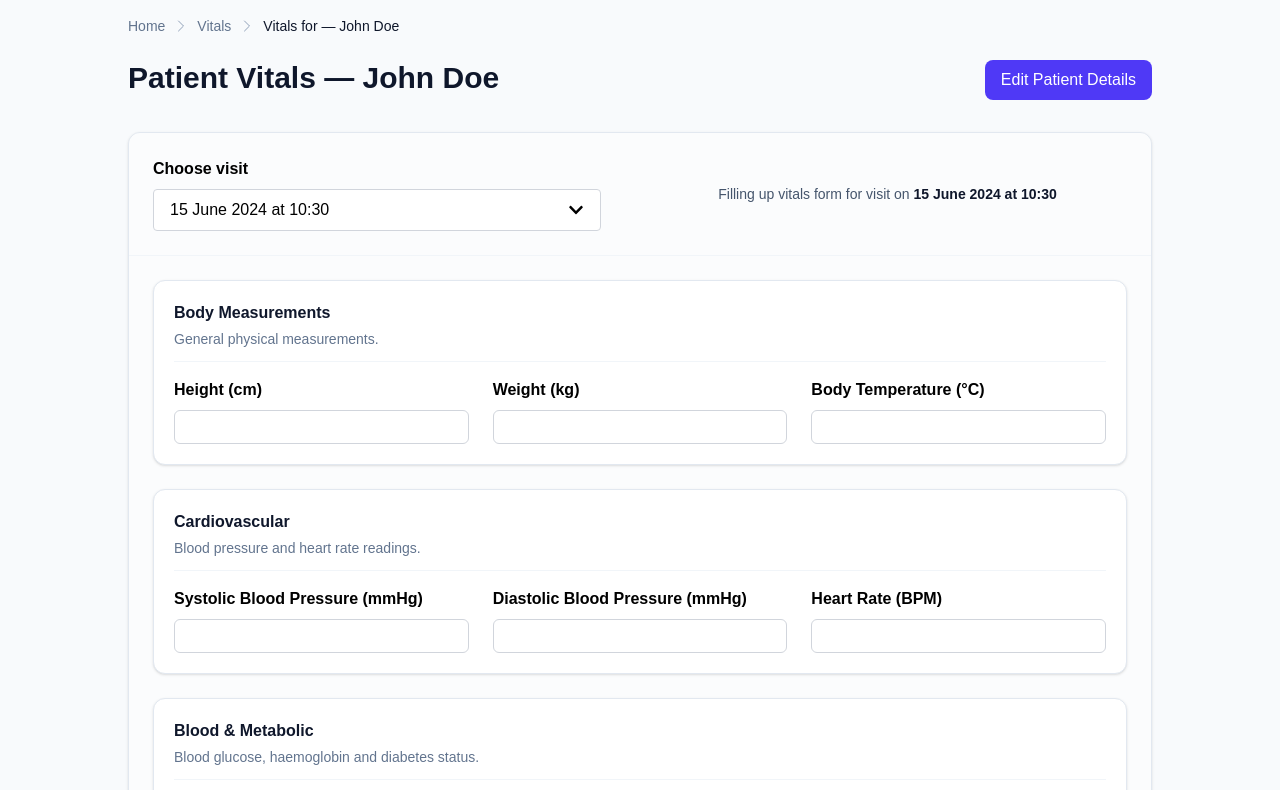
VitalsForm › shows Pre-HTN warning symbol
Type "130" into the number field labelled "Systolic Blood Pressure (mmHg)". click: (321,636)
box: [174, 619, 469, 653]
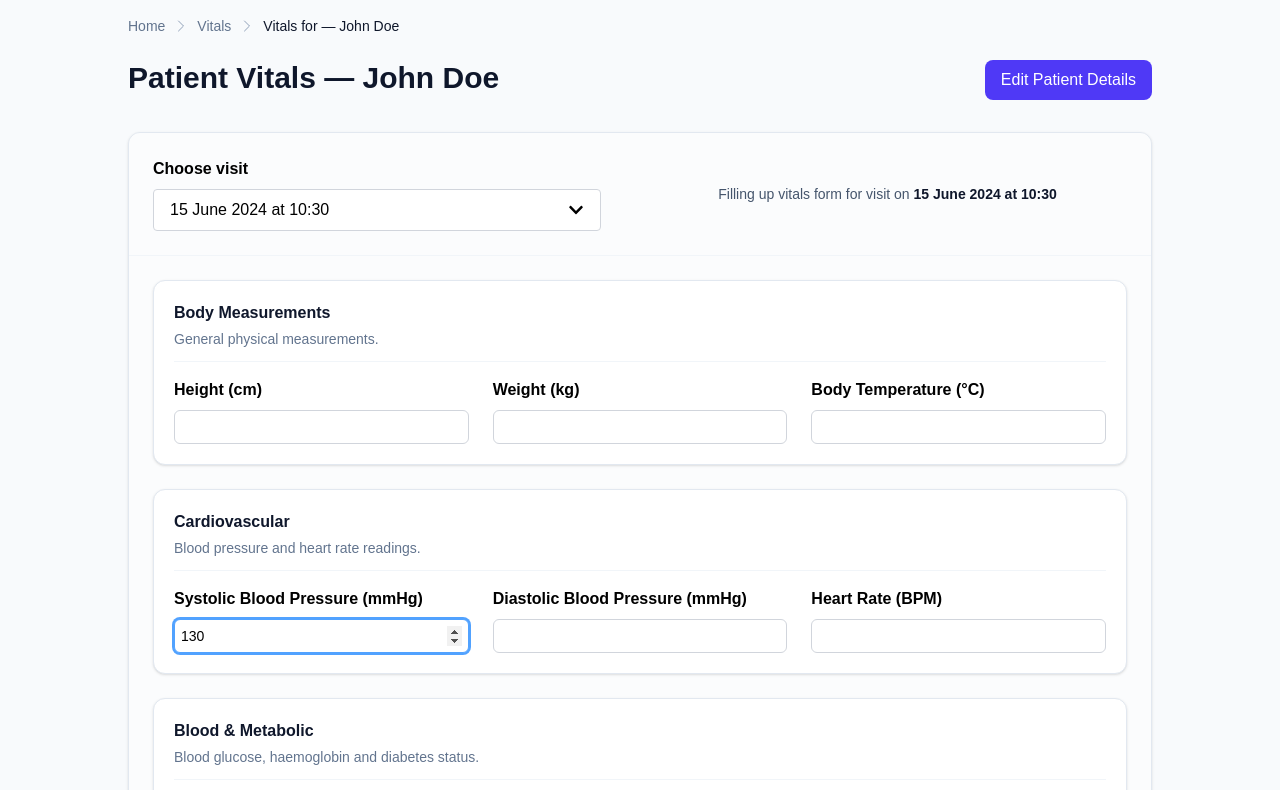
Type "80" into the number field labelled "Diastolic Blood Pressure (mmHg)". click: (640,636)
box: [493, 619, 787, 653]
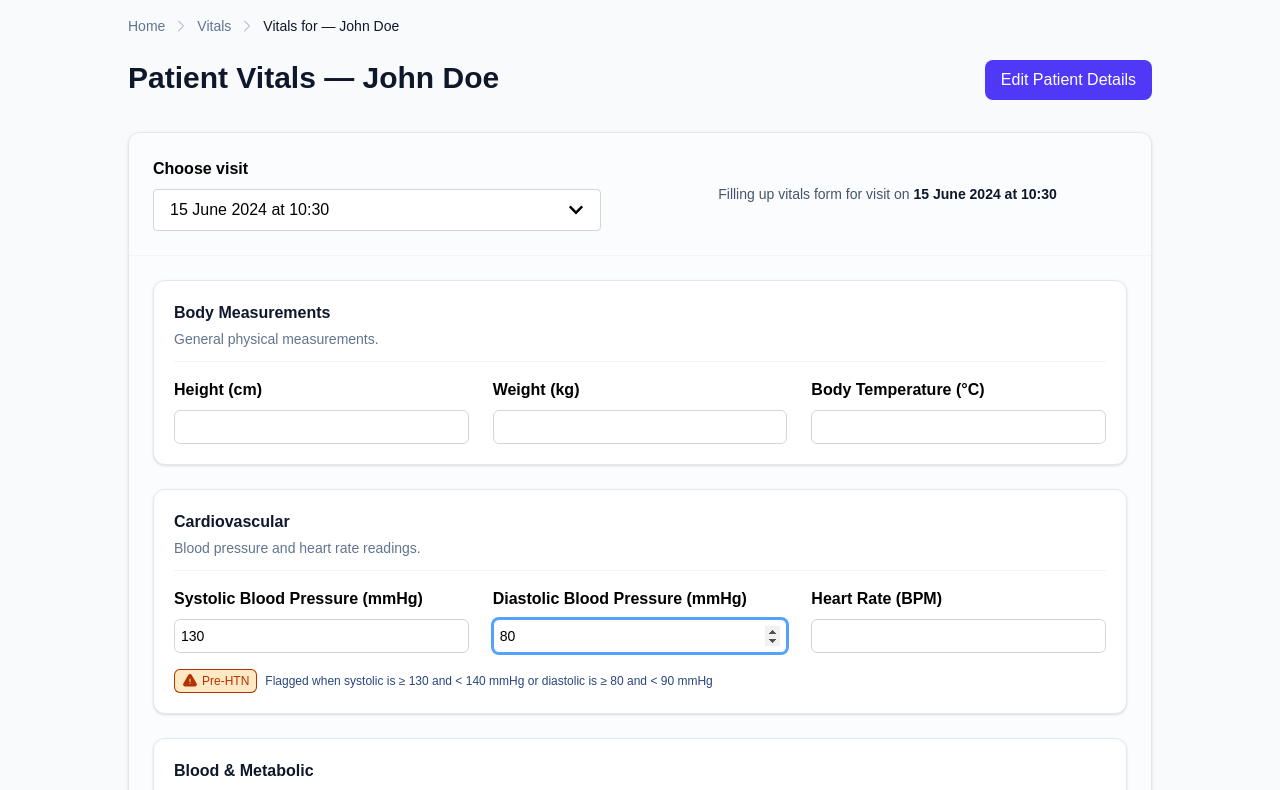
Check: the text "Pre-HTN" is shown, box [174, 669, 257, 693]
